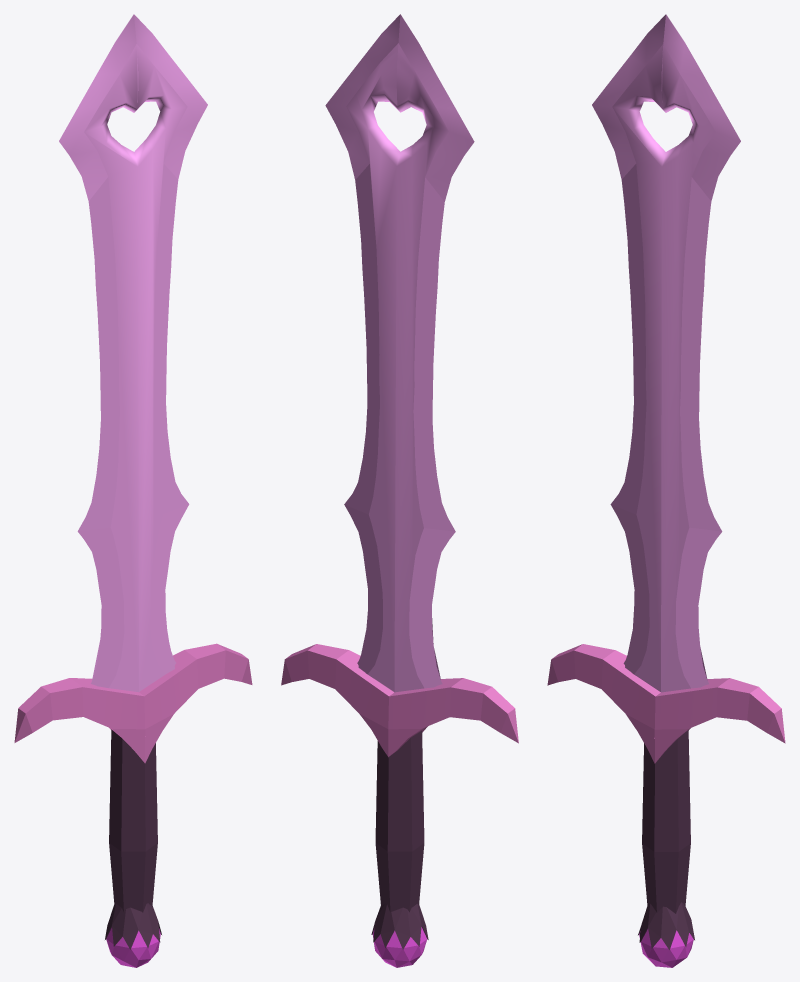
File: FBX_ShortSword_charm.fbx
The picture shows the model from 3 angles, left to right: view 1: azimuth 30°, elevation 25°; view 2: azimuth 150°, elevation 25°; view 3: azimuth 330°, elevation 25°; orthographic projection.
Parts seen in each view (by area): view 1: edge.005, middle.007, handle.005, crystal_wrap.005, crystal.005; view 2: edge.005, middle.007, handle.005, crystal_wrap.005, crystal.005; view 3: edge.005, middle.007, handle.005, crystal_wrap.005, crystal.005.
Boxes of the visible parts, x1,y1,x2,y2 form: edge.005: [59, 14, 207, 692]; middle.007: [14, 643, 252, 763]; handle.005: [109, 729, 157, 912]; crystal_wrap.005: [105, 903, 161, 949]; crystal.005: [106, 927, 160, 967]; edge.005: [325, 14, 474, 692]; middle.007: [281, 644, 518, 756]; handle.005: [375, 731, 424, 912]; crystal_wrap.005: [371, 903, 428, 949]; crystal.005: [372, 927, 427, 967]; edge.005: [592, 14, 740, 692]; middle.007: [547, 644, 785, 763]; handle.005: [642, 730, 690, 913]; crystal_wrap.005: [638, 902, 694, 949]; crystal.005: [639, 929, 693, 967].
Size of the model in its own units: 0.0563 by 1.01 by 0.2637.
